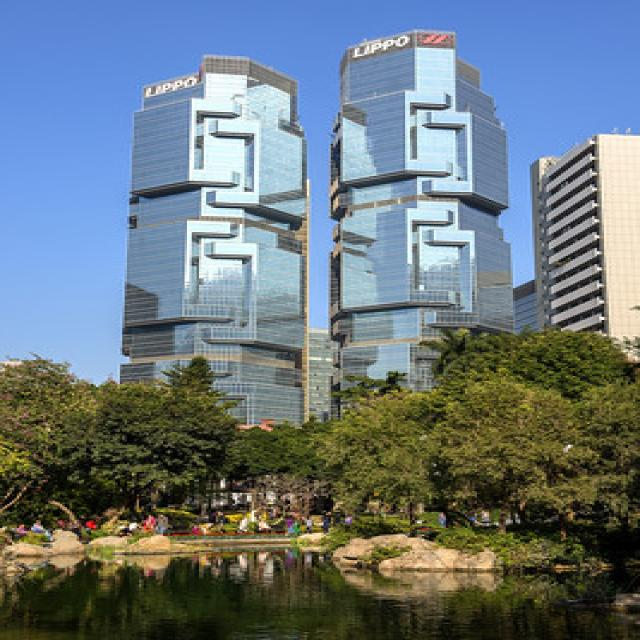building: (121, 51, 313, 450), (324, 32, 520, 422)
